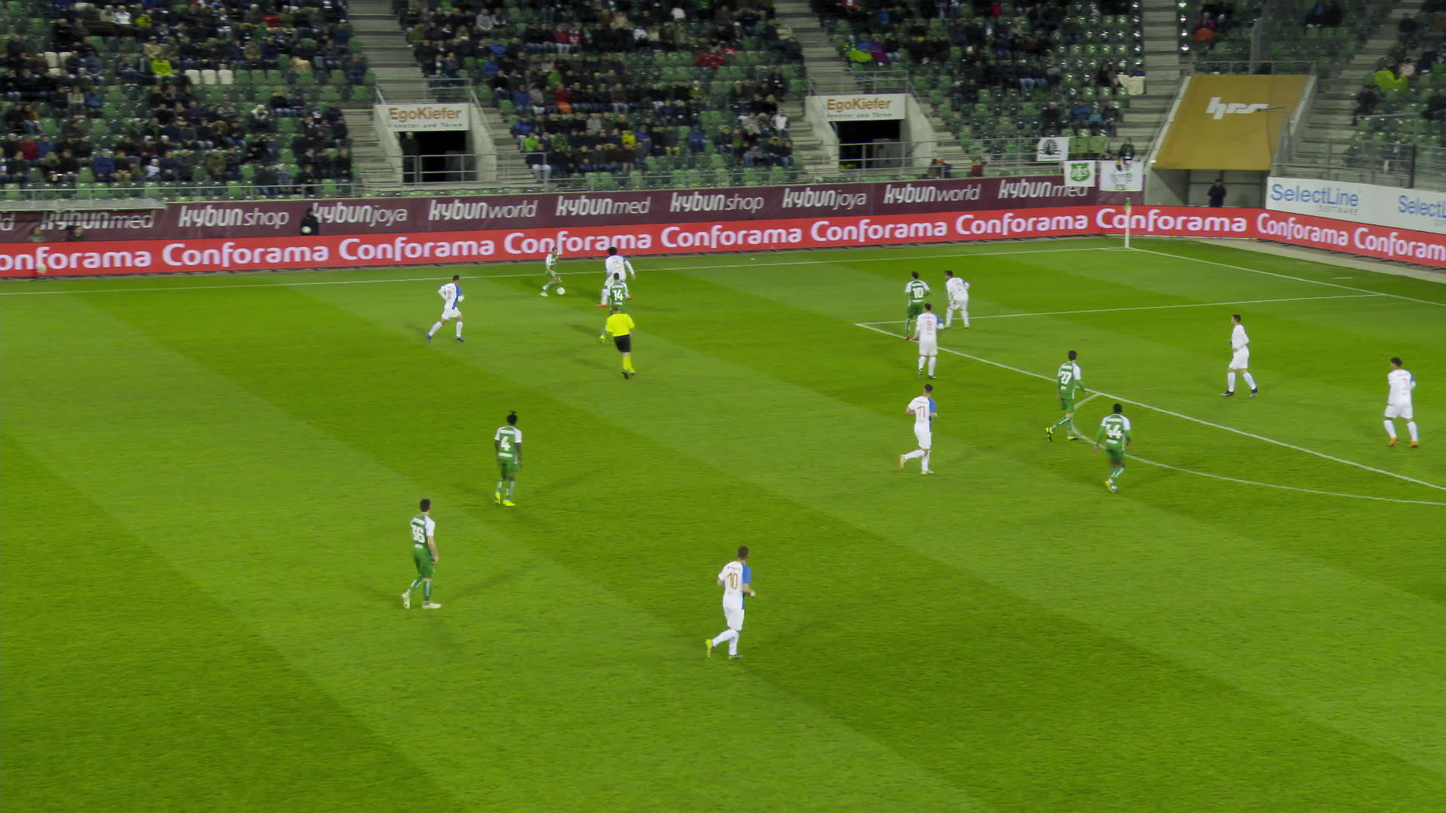ball: (557, 287, 565, 295)
player: (698, 543, 756, 663), (399, 498, 451, 611), (893, 381, 941, 473), (1043, 348, 1089, 443), (1094, 402, 1135, 495), (490, 412, 529, 507), (1381, 357, 1420, 448), (595, 272, 636, 345), (1222, 314, 1258, 397), (429, 276, 468, 345), (599, 246, 636, 306), (914, 303, 944, 377), (901, 272, 932, 341), (942, 269, 972, 329), (540, 244, 565, 297)
referee: (606, 303, 638, 380)
